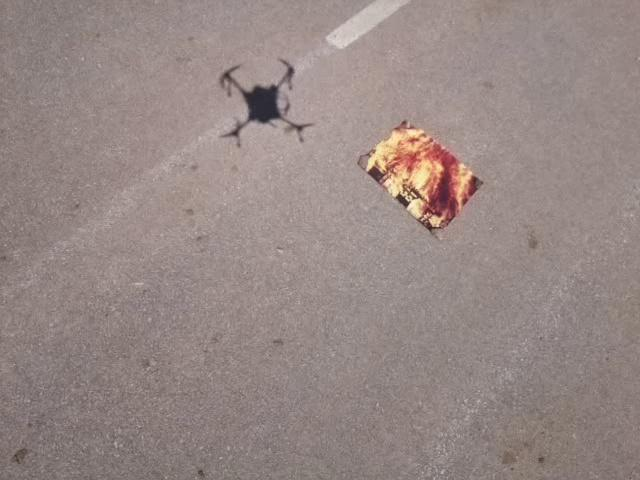fire-poster: (355, 117, 484, 237)
